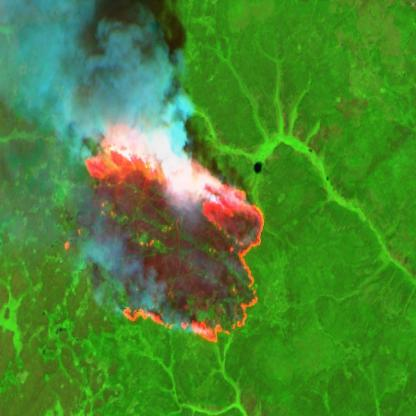fire: (61, 115, 267, 346)
